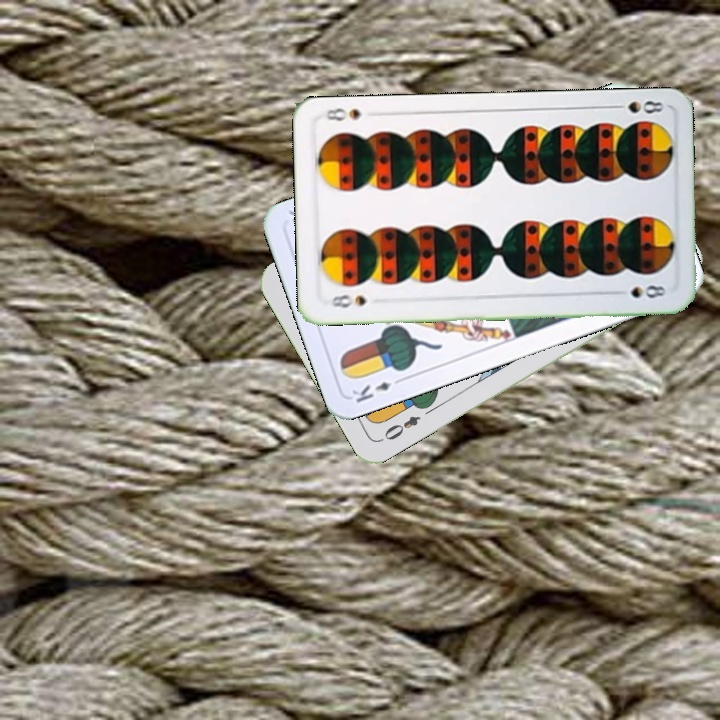EK: (348, 373, 406, 406)
EO: (380, 411, 424, 443)
S8: (607, 96, 666, 116), (327, 290, 369, 310)
